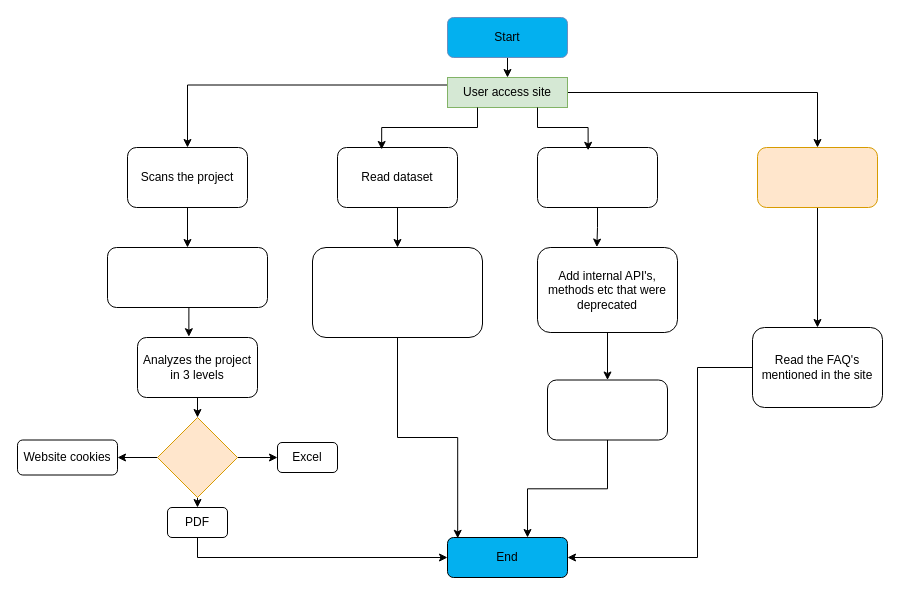
Image size: 900x595. Some labels were removed from this diagram. Each missing label, with the box of its shape:
Add data to dataset: (536, 146, 658, 208)
Read deprecated API's/Packages/Methods etc in tabular view: (312, 246, 482, 338)
Read FAQ's: (756, 146, 878, 208)
Save report: (156, 416, 238, 498)
Saves the data in Database: (546, 379, 668, 440)
Upload .zio/pom.xml/build.gradle: (106, 246, 268, 308)
